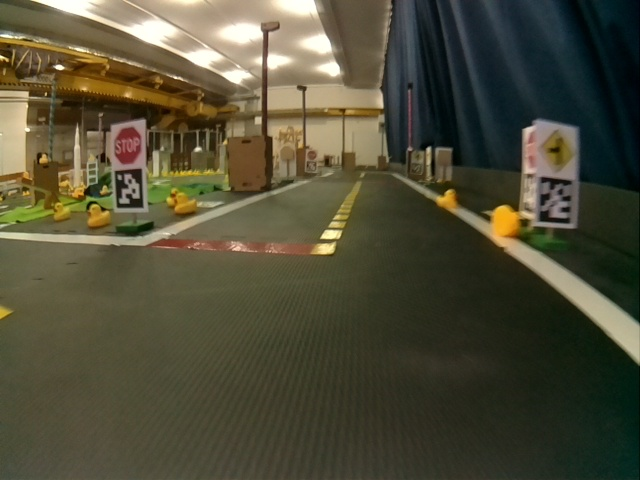Duckie: (491, 205, 520, 236), (88, 206, 110, 228), (176, 194, 197, 214), (438, 190, 458, 208), (53, 203, 70, 221), (39, 153, 48, 162), (101, 186, 109, 194)
Intersection sign: (541, 126, 576, 173)
QR code: (538, 176, 574, 226), (112, 170, 146, 209), (522, 173, 534, 217), (306, 161, 316, 171)
Stop sign: (111, 125, 144, 165), (524, 132, 534, 168), (306, 150, 316, 160)
